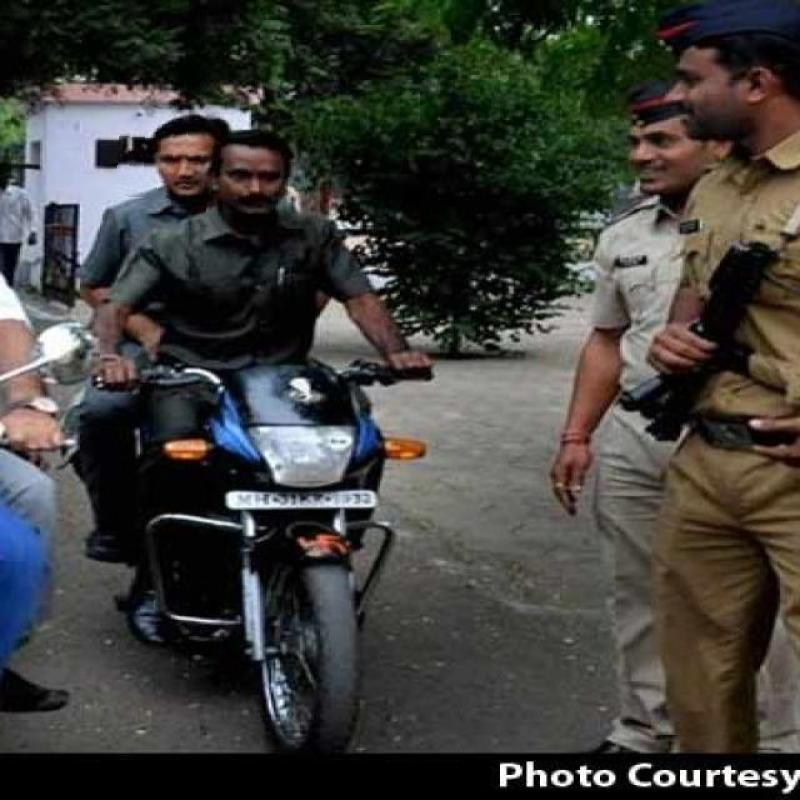nohelmet: (207, 143, 308, 228), (116, 118, 214, 201)
